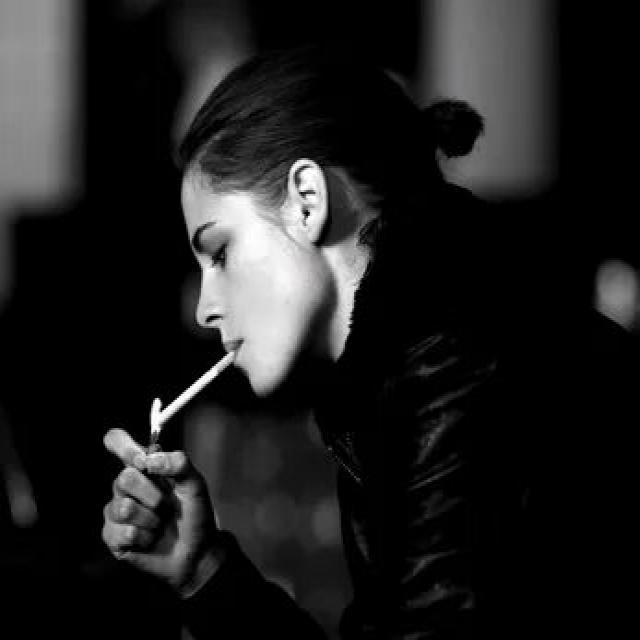smoke: (153, 344, 240, 434)
